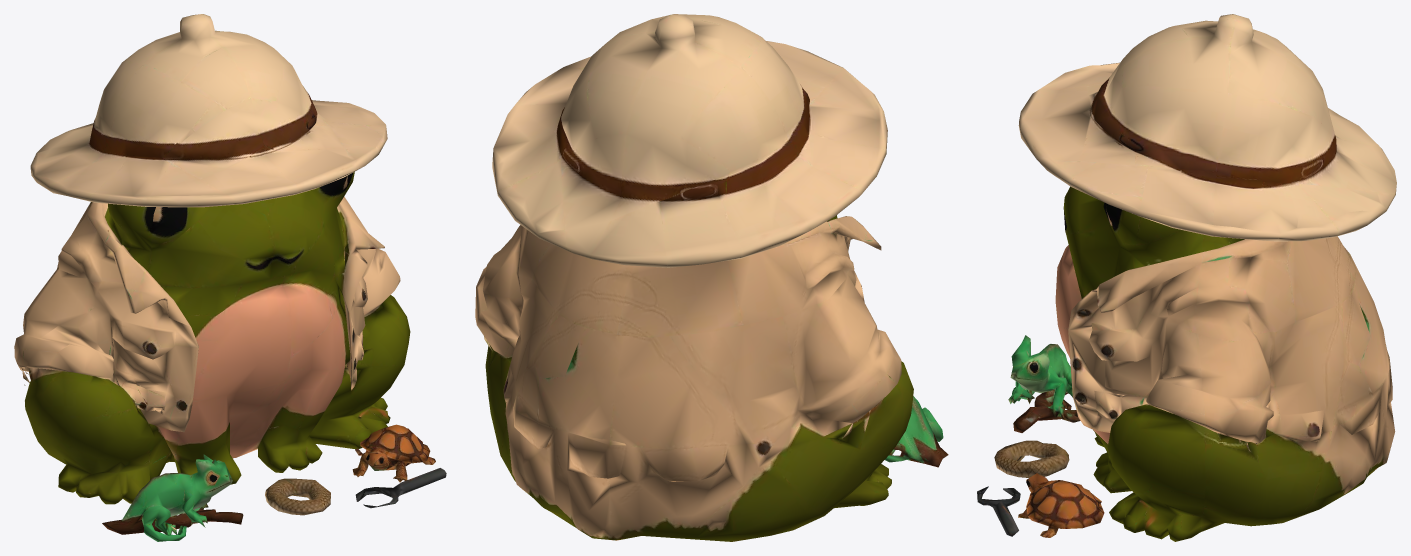
Rendered from herpetologue.glb.
3 views of the same model, side by side, from view 1: azimuth 30°, elevation 25°; view 2: azimuth 150°, elevation 25°; view 3: azimuth 270°, elevation 25° (orthographic). The views are drawn at different scales.
Visible parts, largest first — view 1: mesh_node; view 2: mesh_node; view 3: mesh_node.
Boxes of the visible parts, x1=… form: mesh_node: x1=14, y1=14, x2=446, y2=541; mesh_node: x1=475, y1=14, x2=948, y2=541; mesh_node: x1=977, y1=14, x2=1396, y2=541.
Bounding box in the file's own units: 1.76 × 1.9 × 1.62.
1 material, 1 textured.
